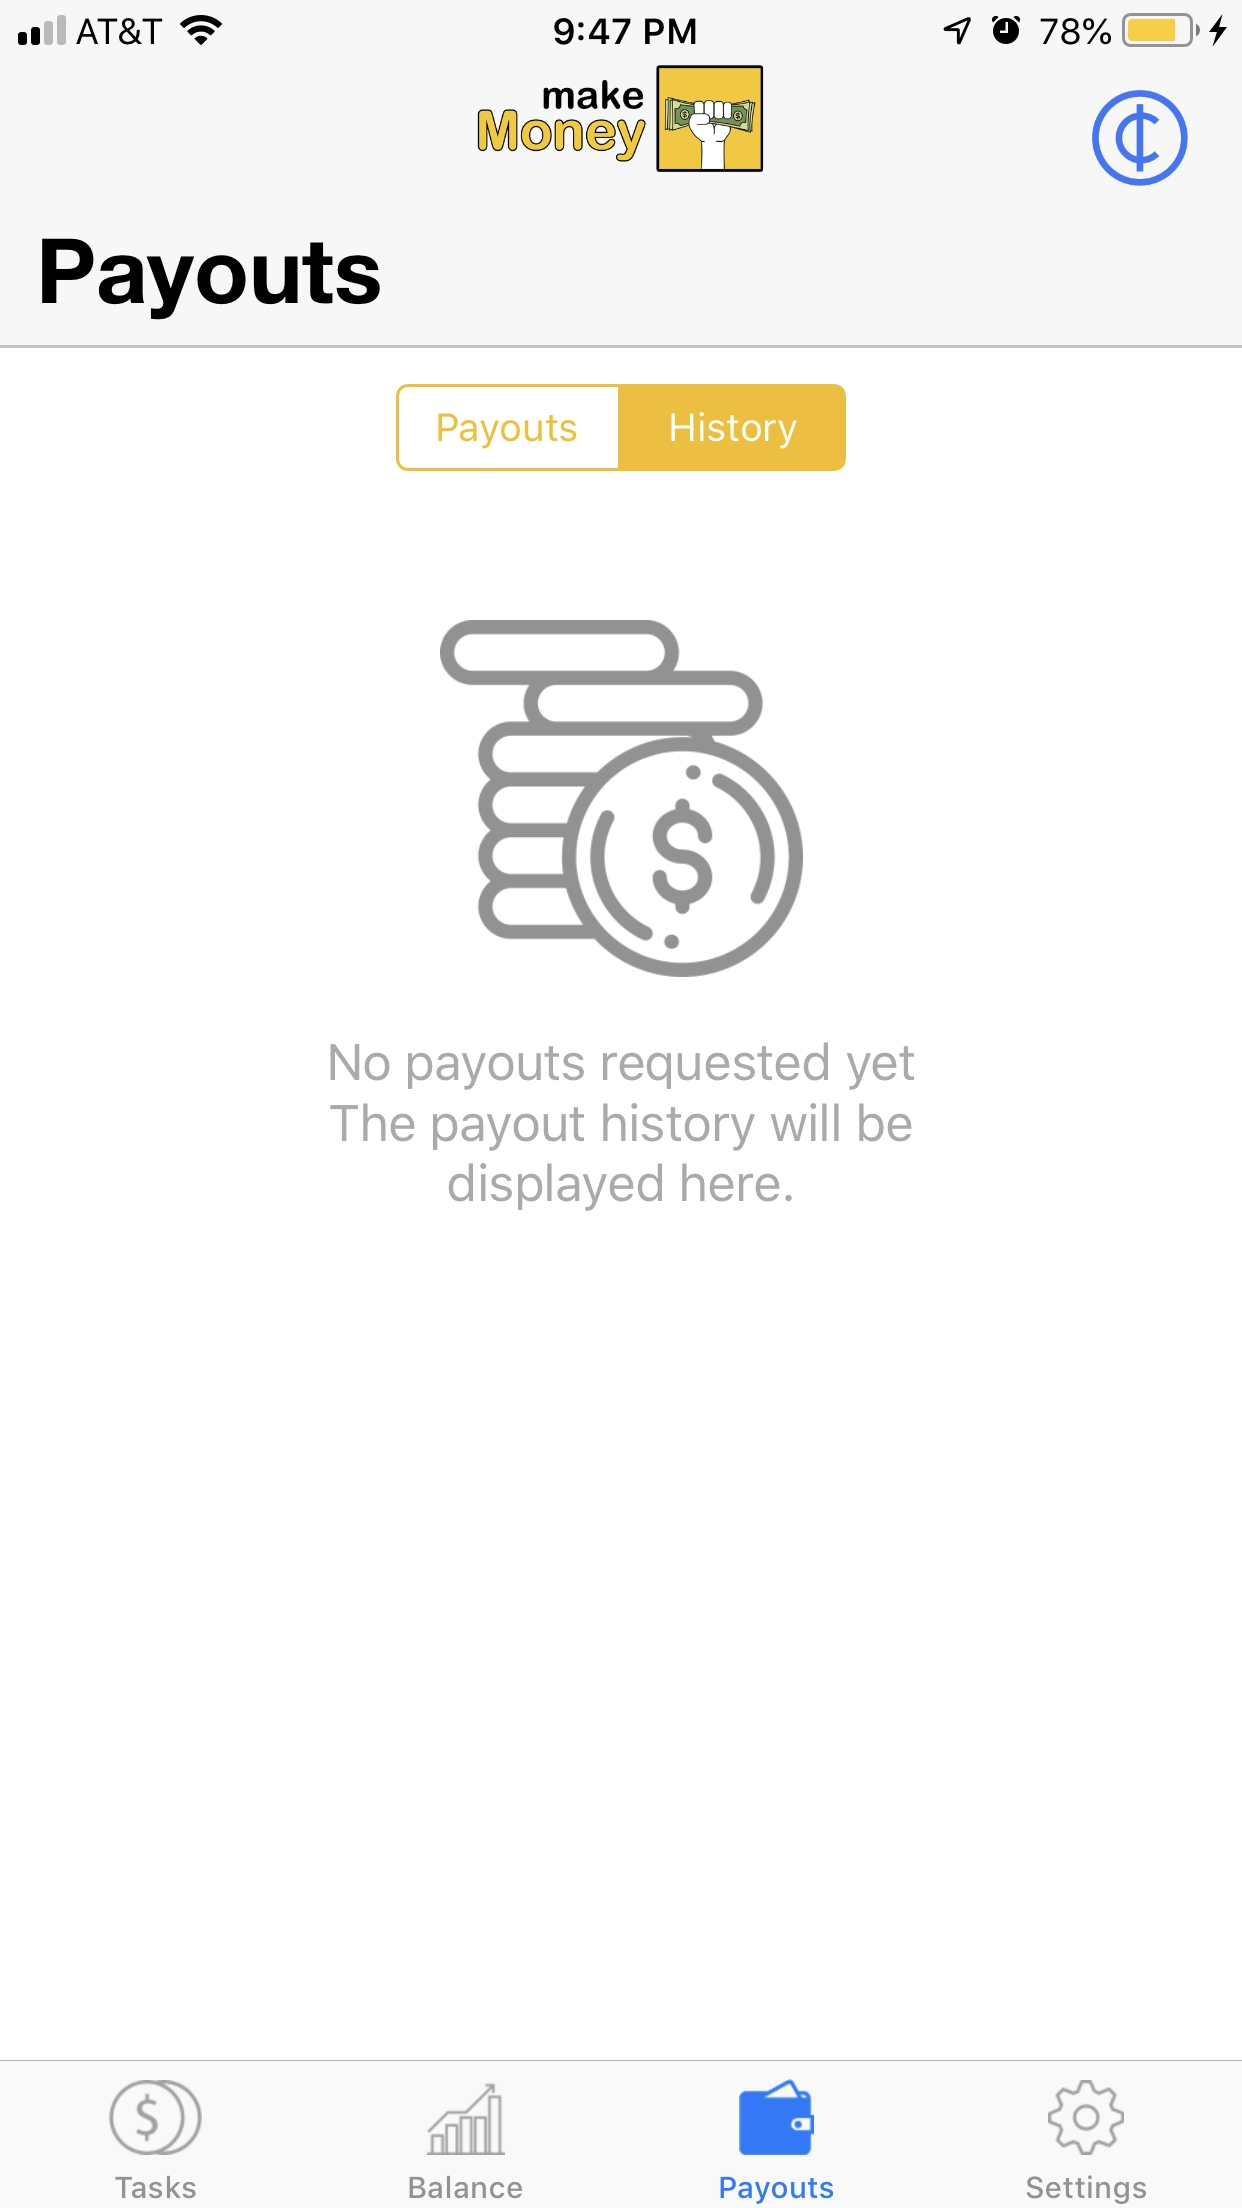Icon: (109, 2079, 205, 2156), (1046, 2079, 1125, 2156), (739, 2079, 814, 2156), (428, 2082, 507, 2156)
Image: (440, 619, 805, 980), (478, 64, 764, 174), (1090, 89, 1189, 188)
Text: (329, 1040, 916, 1212), (42, 238, 381, 321), (1027, 2175, 1146, 2205), (720, 2176, 834, 2205), (409, 2175, 525, 2199), (115, 2175, 197, 2199)
TextButton: (619, 384, 848, 472), (396, 384, 619, 472)
UpperTaskBar: (2, 2, 1242, 50)
